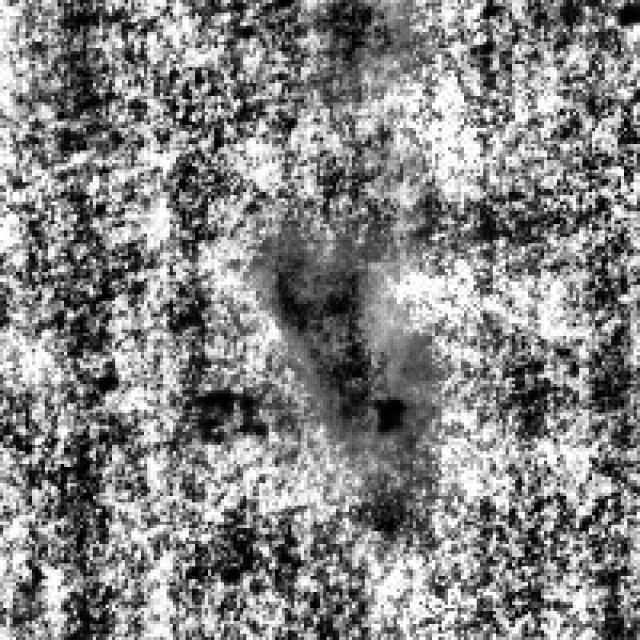Scratches: (262, 249, 410, 442)
